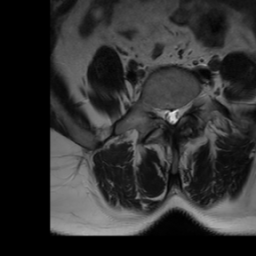CCS_severe_stenosis: (168, 101, 175, 129)
LFS_normal: (181, 94, 189, 116)
LLS_normal: (175, 100, 181, 124)
RFS_normal: (154, 100, 161, 123)
RLS_normal: (161, 102, 168, 125)
